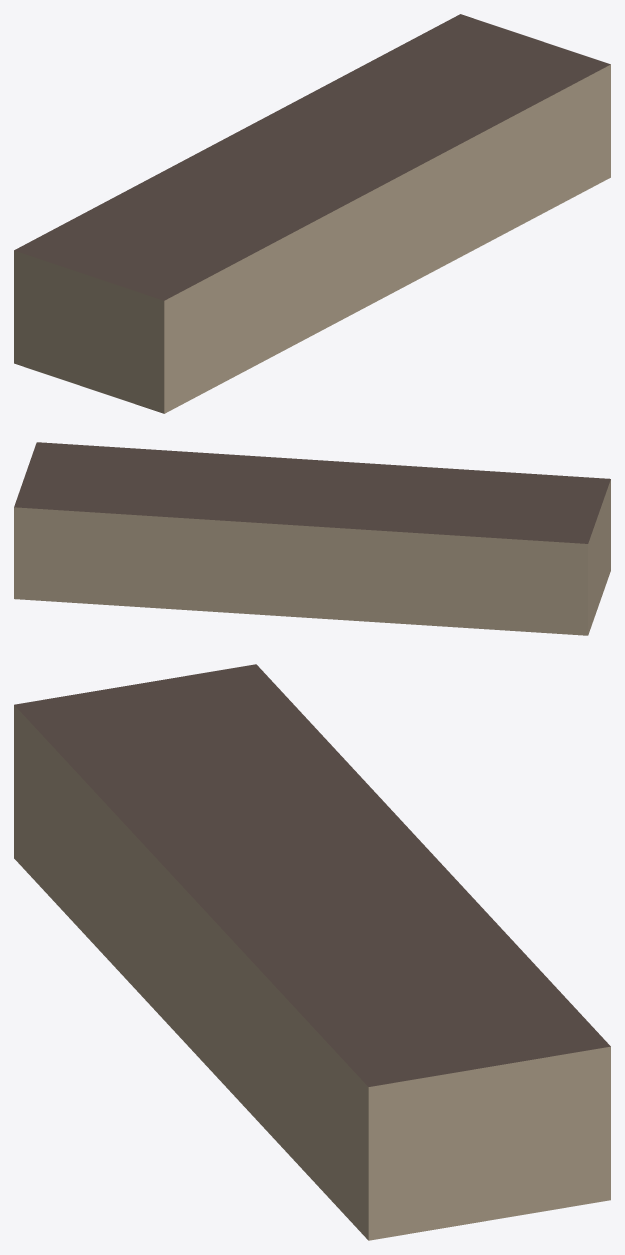
3 views of the same model, one above another, from view 1: azimuth 30°, elevation 25°; view 2: azimuth 150°, elevation 25°; view 3: azimuth 270°, elevation 25° (orthographic). The views are drawn at different scales.
Visible parts, largest first — view 1: HP-w859488696; view 2: HP-w859488696; view 3: HP-w859488696.
Part boxes in pixels (x1,y1,x2,y2): HP-w859488696: (14, 14, 610, 413); HP-w859488696: (14, 442, 610, 635); HP-w859488696: (14, 664, 610, 1240).
Bounding box in the file's own units: 53.14 × 9 × 31.7.
